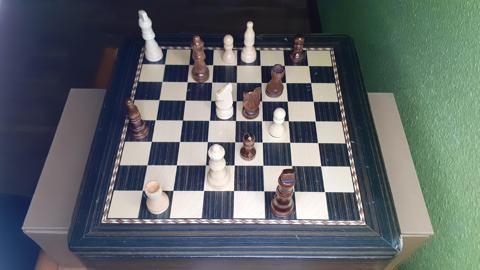xcorner: (185, 60, 193, 68), (233, 78, 241, 86), (232, 117, 240, 125), (142, 162, 150, 170), (261, 189, 269, 197), (258, 61, 265, 69), (308, 79, 316, 86), (283, 79, 291, 86), (258, 79, 266, 86), (158, 77, 165, 85), (259, 97, 266, 105), (181, 96, 188, 104), (154, 96, 162, 103), (313, 118, 321, 125), (259, 118, 267, 125), (205, 117, 213, 124), (151, 116, 158, 124), (316, 140, 324, 147), (260, 139, 267, 147), (147, 138, 154, 146), (319, 164, 327, 171), (261, 163, 268, 171), (231, 163, 239, 170), (138, 188, 145, 196), (306, 62, 313, 69), (282, 62, 289, 69), (234, 61, 241, 68), (210, 61, 217, 68), (161, 60, 168, 67), (208, 78, 215, 85), (183, 78, 190, 85), (311, 98, 318, 105), (285, 98, 292, 105), (233, 97, 240, 104), (207, 97, 214, 104), (287, 118, 294, 125), (178, 117, 185, 124), (288, 140, 295, 147), (232, 139, 239, 146), (204, 139, 211, 146), (175, 139, 182, 146), (290, 164, 297, 171), (202, 163, 209, 170), (172, 163, 179, 170), (323, 190, 330, 197), (292, 190, 299, 197), (231, 189, 238, 196), (200, 189, 207, 196), (169, 189, 176, 196)
